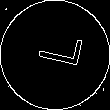L_W: (27, 34, 83, 76)
